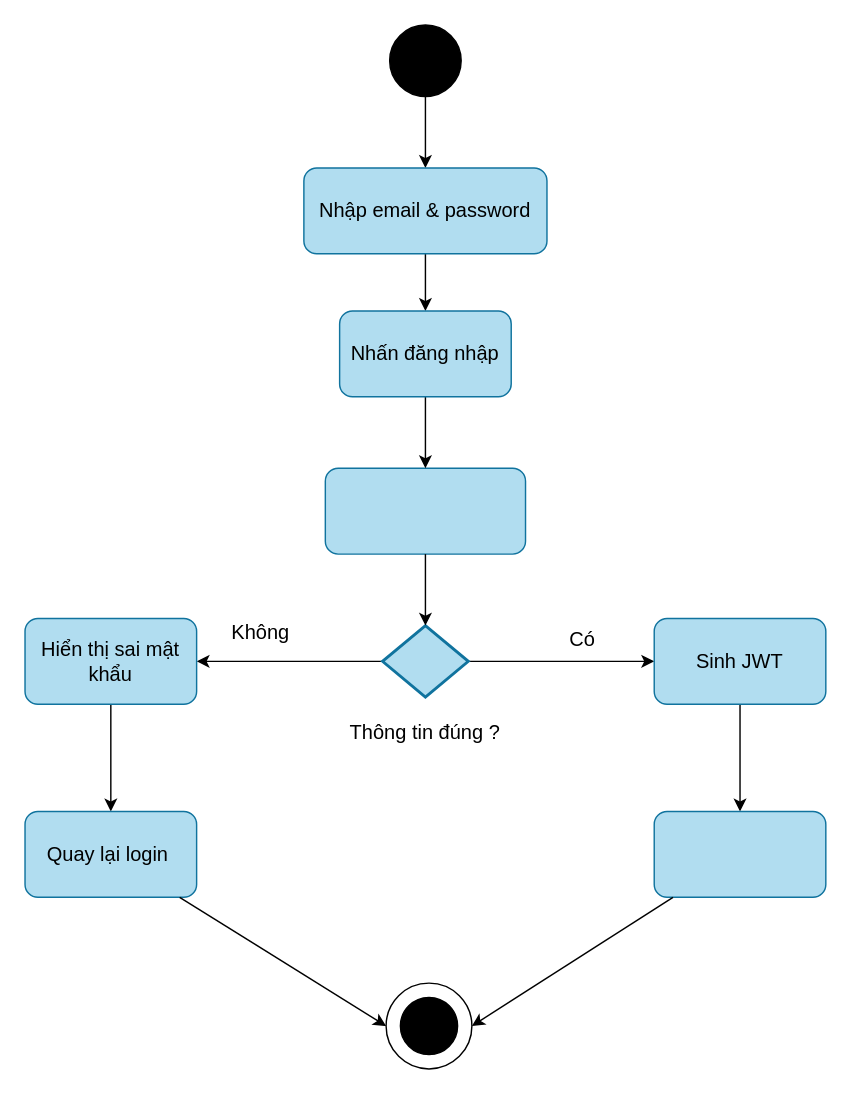
Image size: 851x1094. Some labels were removed from this diagram. The centre of each missing label's shape, as x and y in pixels:
Chuyển trang chủ: point (739, 853)
Kiểm tra tài khoản: point (425, 510)
